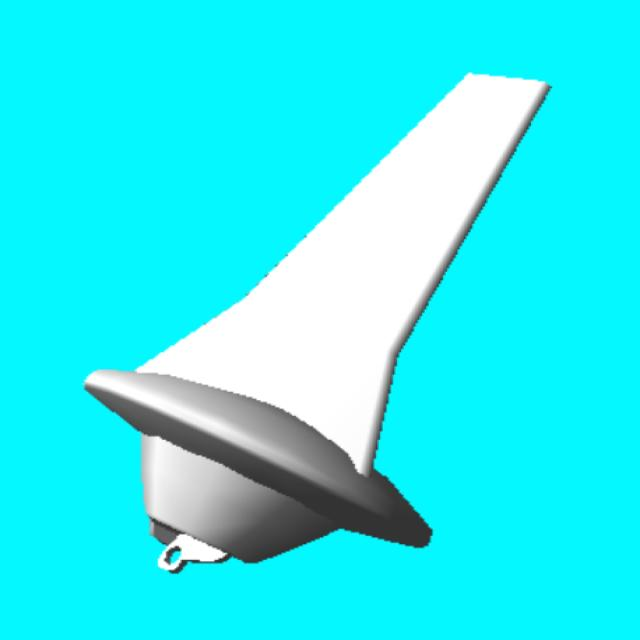WhiteBuoy: (86, 75, 549, 571)
